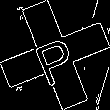P_N: (28, 25, 82, 85)
